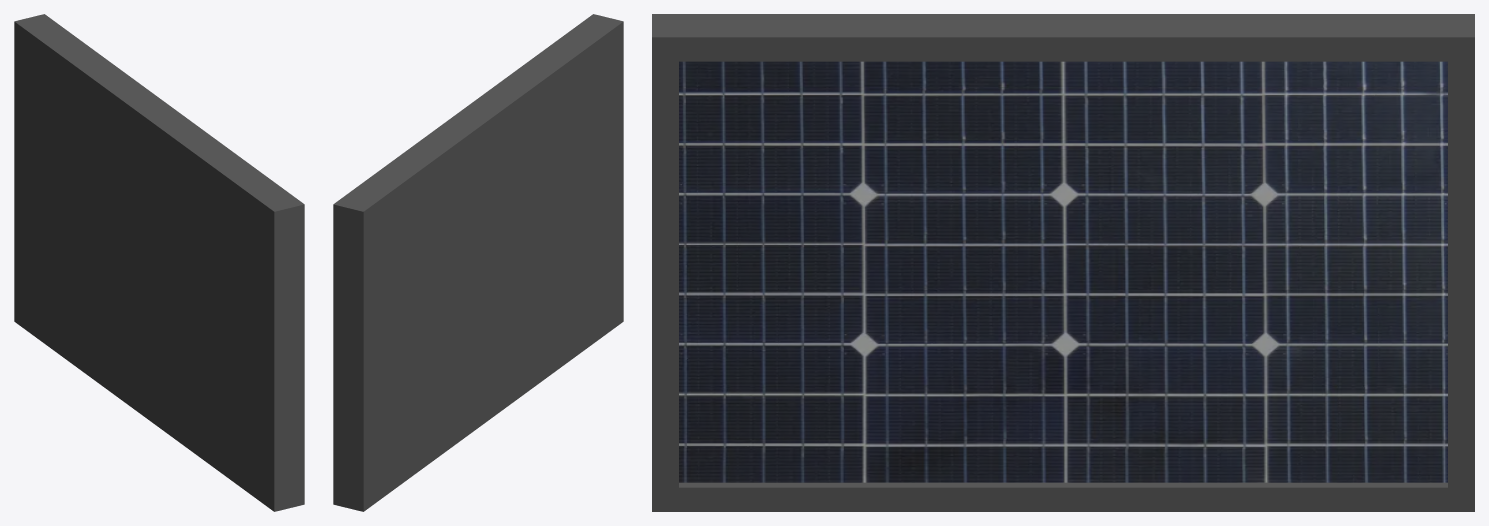
The model's file is LightPanel.glb.
3 views of the same model, side by side, from view 1: azimuth 30°, elevation 25°; view 2: azimuth 150°, elevation 25°; view 3: azimuth 270°, elevation 25° (orthographic). The views are drawn at different scales.
Parts seen in each view (by area): view 1: Cube; view 2: Cube; view 3: Empty.001, Cube.
Boxes of the visible parts, x1,y1,x2,y2 form: Cube: (14,14,304,511); Cube: (333,14,623,511); Empty.001: (679,61,1447,482); Cube: (652,14,1474,511).
Size of the model in its own units: 0.0688 by 0.6501 by 1.02.
Materials: 2 (1 with a texture image).
